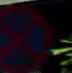No Stopping: (0, 3, 57, 72)
